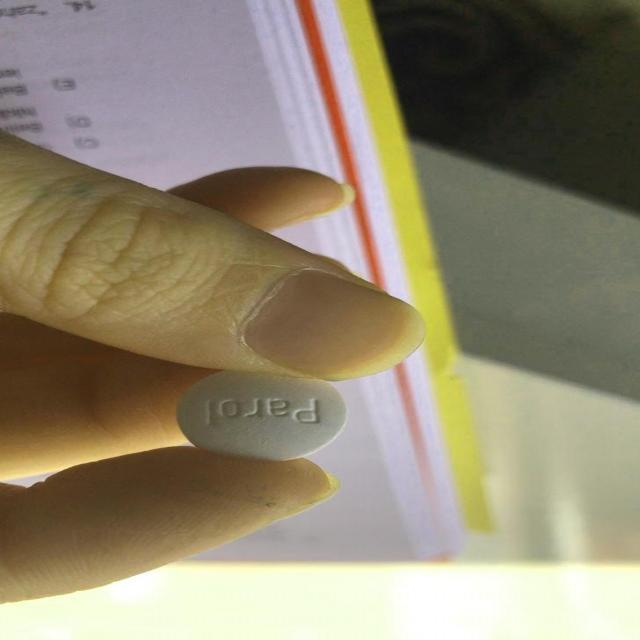pill: (177, 364, 366, 463)
